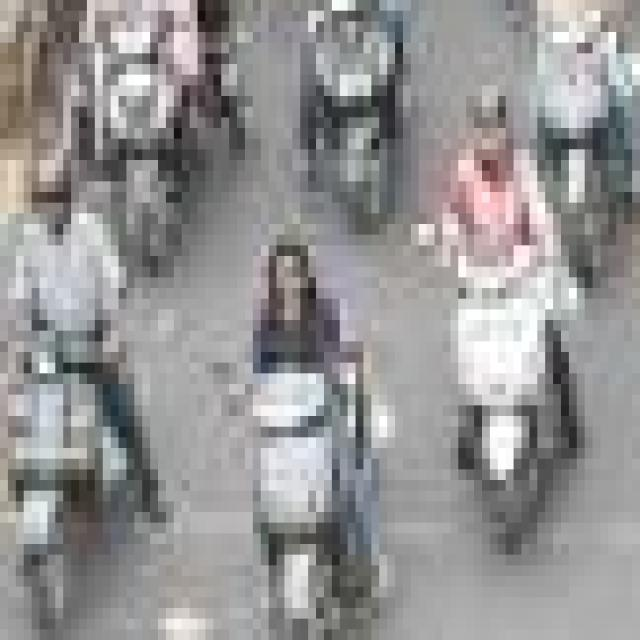bike: (427, 224, 592, 533), (8, 320, 142, 640), (237, 362, 387, 640), (79, 11, 221, 277), (300, 0, 419, 224), (537, 11, 632, 256)
